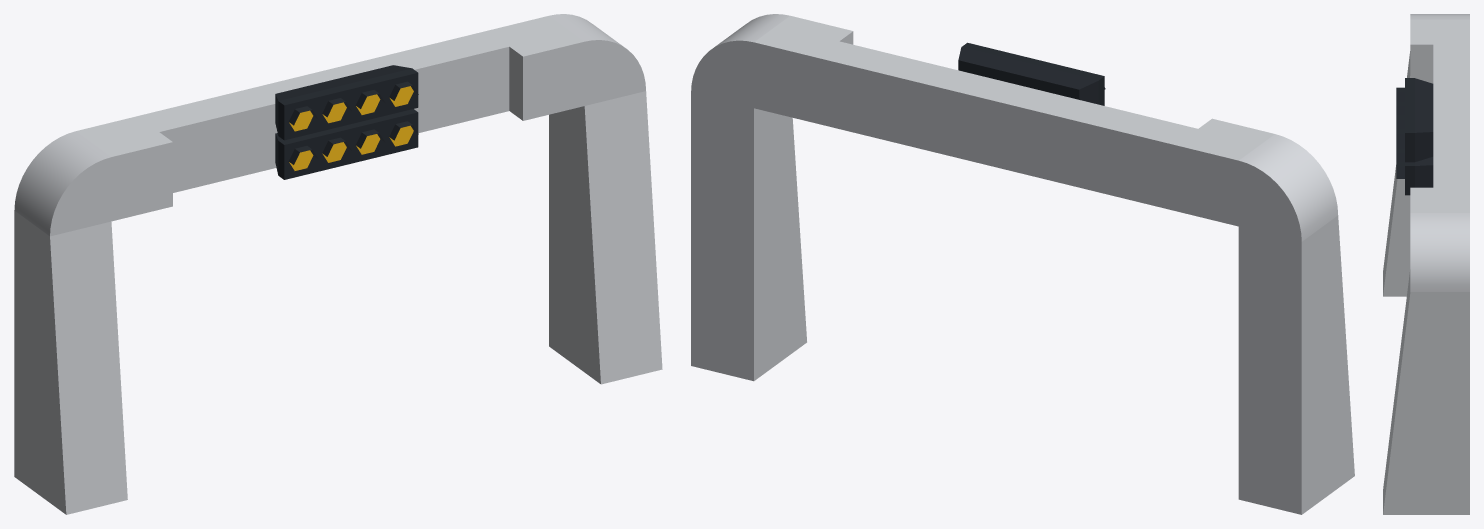
File: gate-lights.glb
3 views of the same model, side by side, from view 1: azimuth 30°, elevation 25°; view 2: azimuth 150°, elevation 25°; view 3: azimuth 270°, elevation 25° (orthographic). The views are drawn at different scales.
Visible parts, largest first — view 1: overheadLights(Clone); view 2: overheadLights(Clone); view 3: overheadLights(Clone).
Boxes of the visible parts, box(x1,y1,x2,y2) form: overheadLights(Clone): box(14, 14, 662, 514); overheadLights(Clone): box(691, 14, 1354, 514); overheadLights(Clone): box(1383, 14, 1469, 514).
Bounding box in the file's own units: 1.26 × 0.6939 × 0.19.
